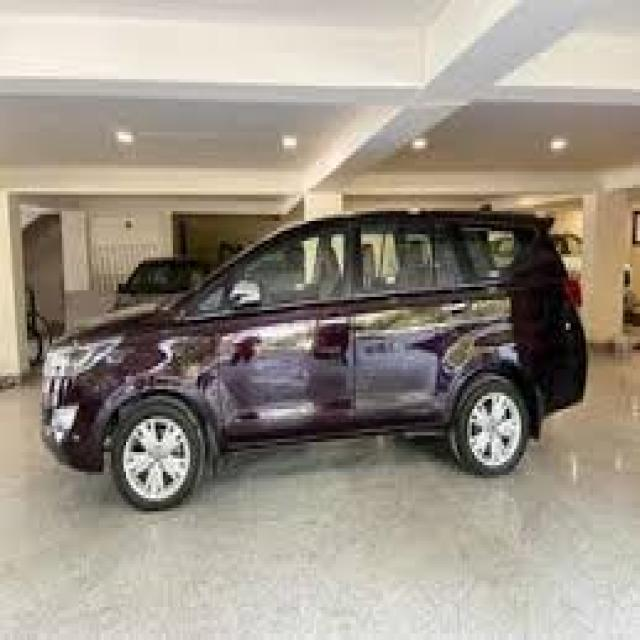Car: (41, 212, 585, 508)
